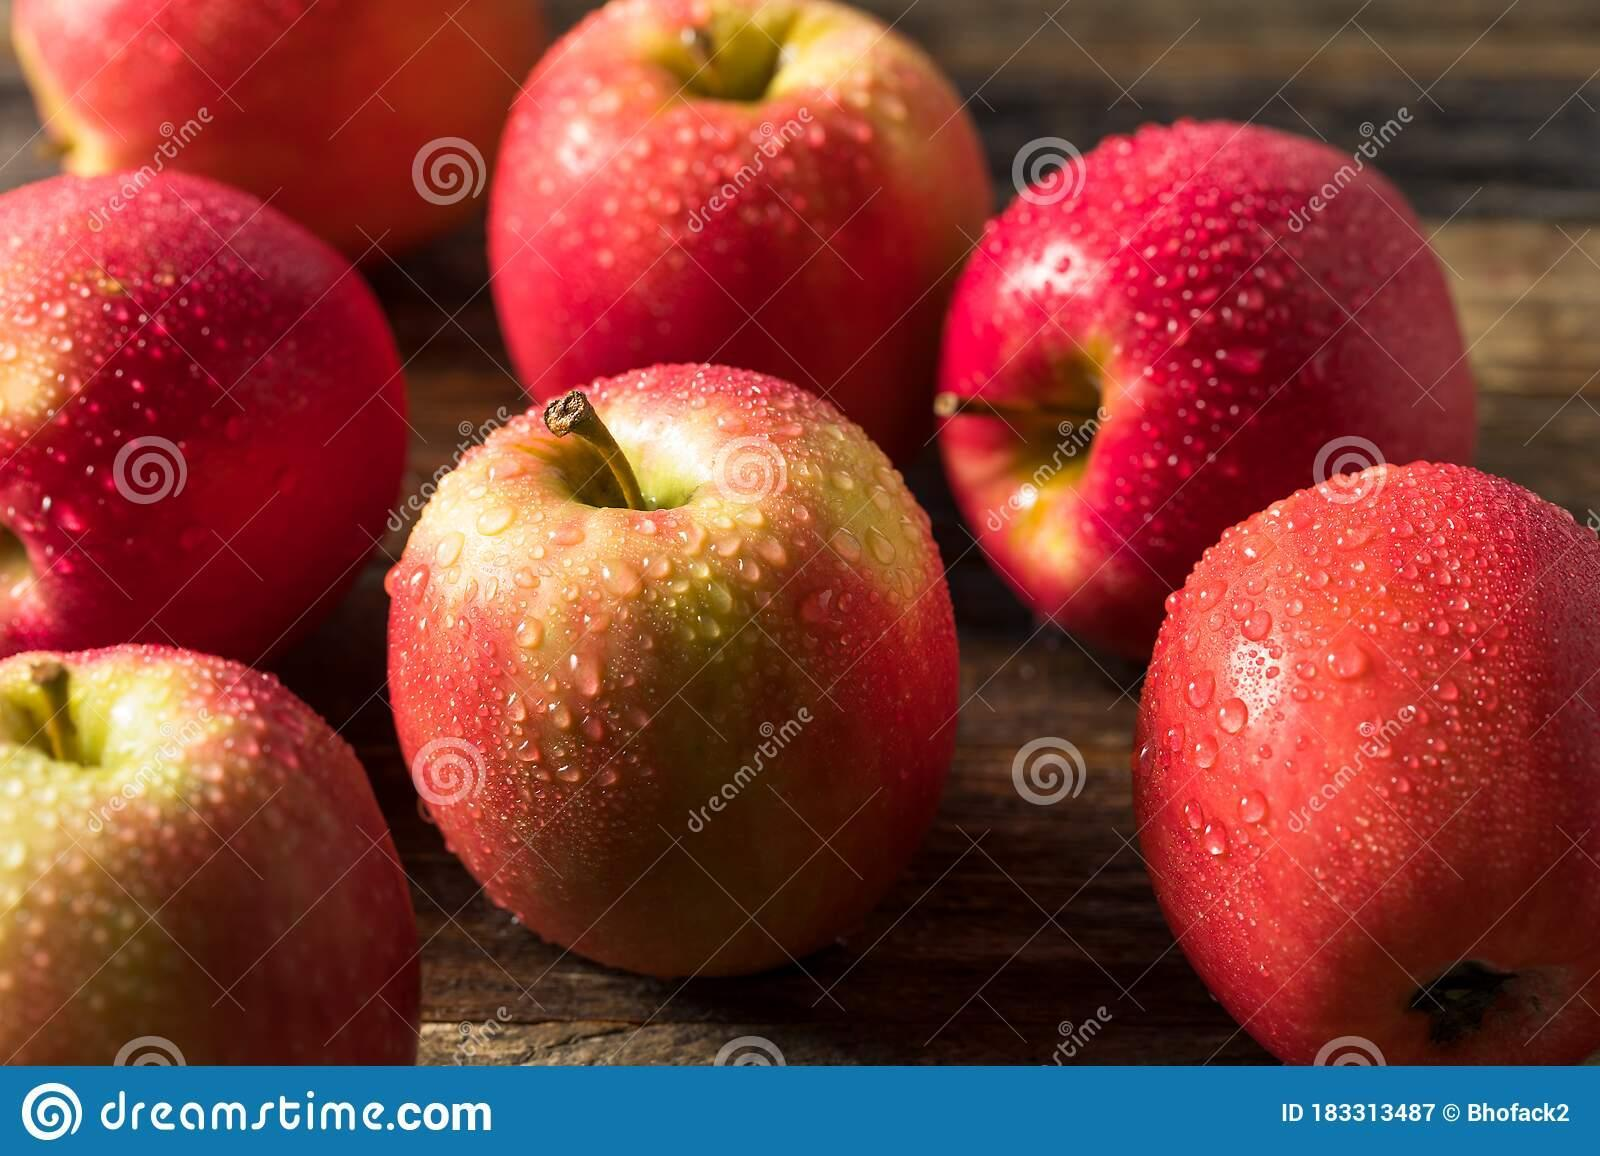apple: (371, 363, 961, 977), (935, 112, 1481, 642), (1133, 454, 1599, 1058), (489, 2, 990, 471), (5, 176, 407, 721), (1, 642, 407, 1064)
